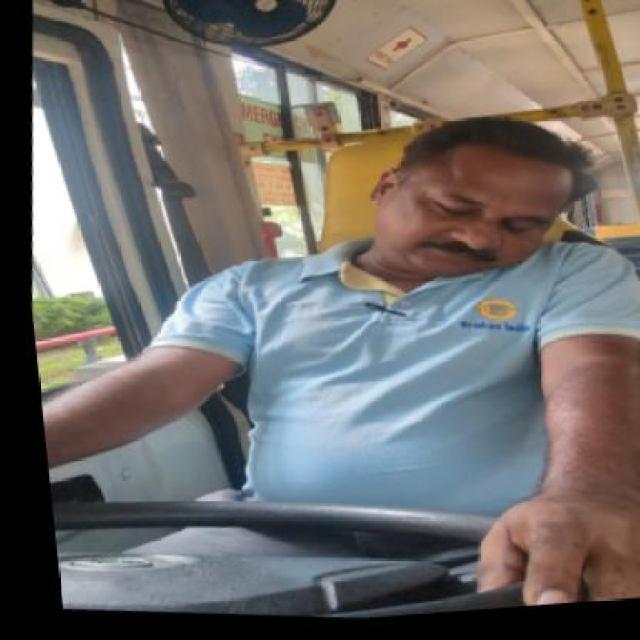Inattentive: (369, 113, 599, 276)
